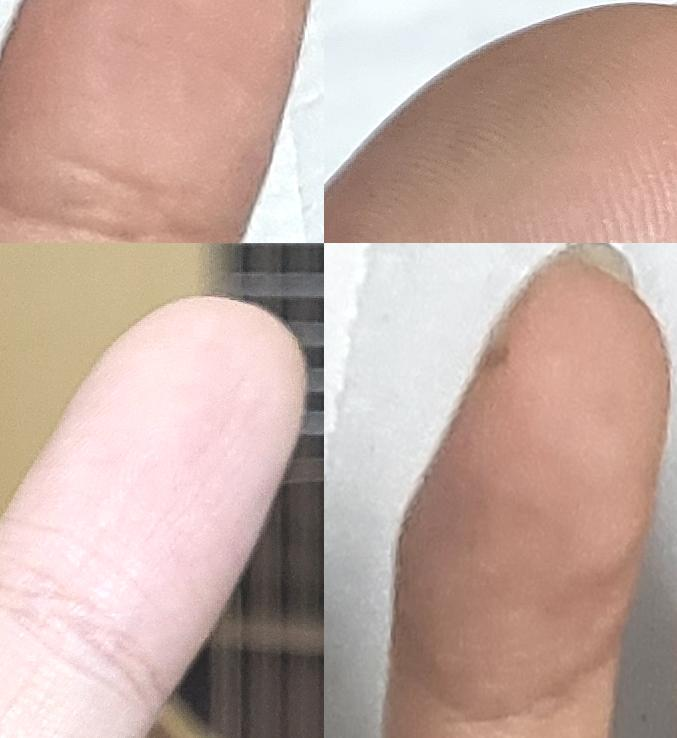Fingerprints: (393, 253, 671, 716), (0, 294, 310, 694), (324, 3, 677, 243), (0, 0, 311, 214)
